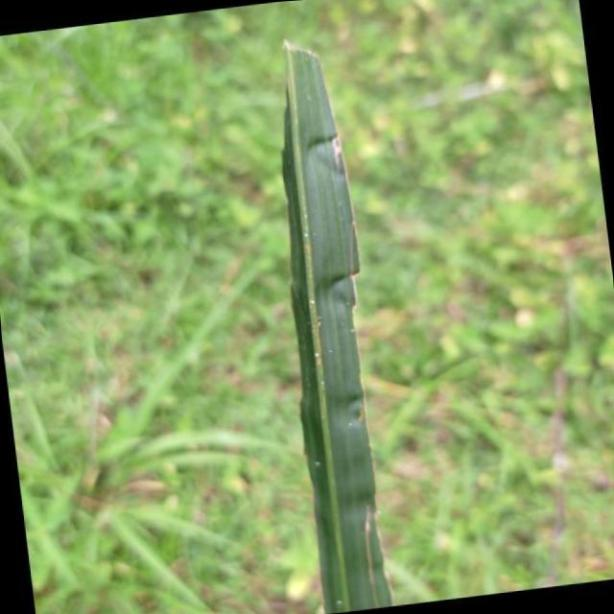Boron: (278, 36, 394, 614)
